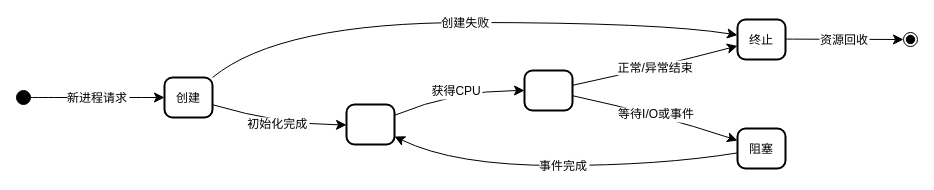
The diagram is 934 pixels wide and 190 high, and some of its shapes have lost their labels. Each missing label, with the box of its shape:
就绪: (345, 103, 395, 145)
运行: (523, 69, 573, 111)
